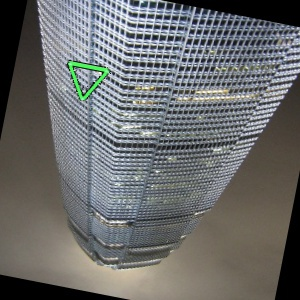triangle: (63, 56, 113, 103)
